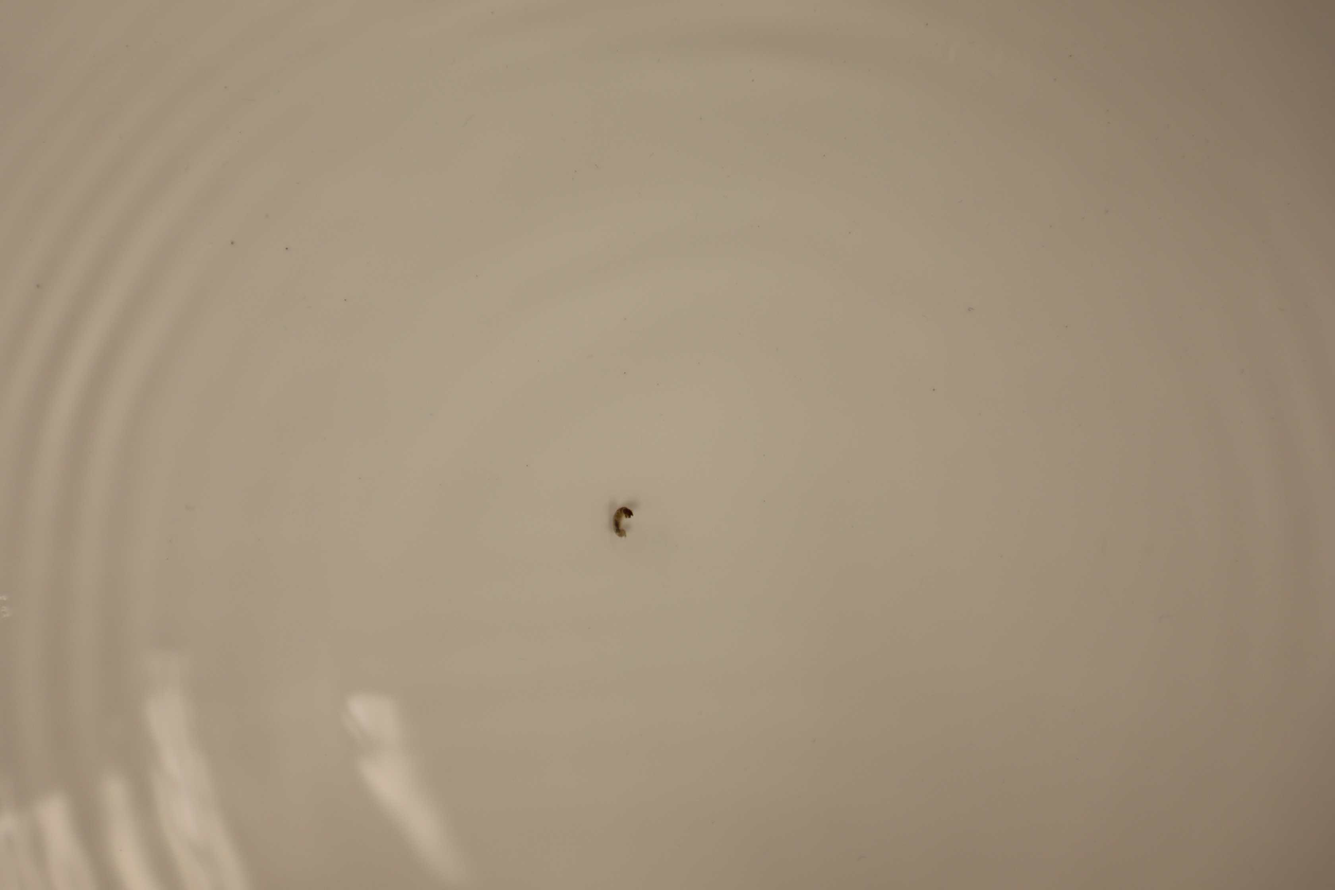Cadisfly: (609, 504, 641, 540)
